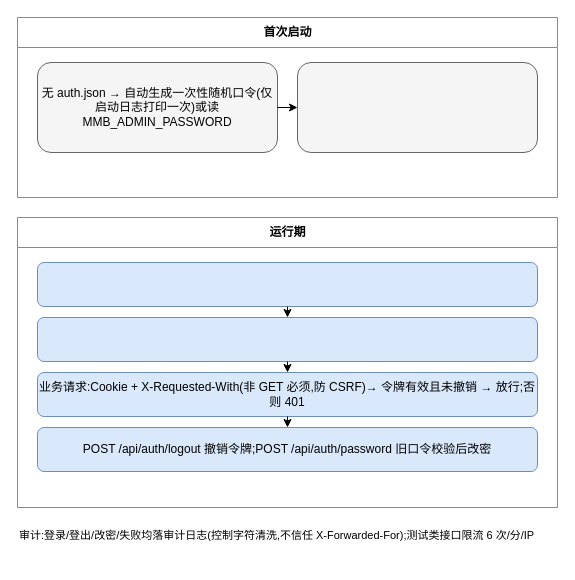
The diagram is 575 pixels wide and 580 high, and some of its shapes have lost their labels. The shapes that lost their labels are listed below. From the top down, each one's centre as x and y in pixels, then its label:
At point 417,107: "初始化 auth.json:bcrypt 哈希落盘,defaultPassword 标记提醒改密(原子写)".
At point 287,284: "POST /api/auth/login → bcrypt 校验 + 失败计数(错 → 401)".
At point 287,339: "成功 → 签发会话令牌,Set-Cookie: mt_session(HttpOnly)".
